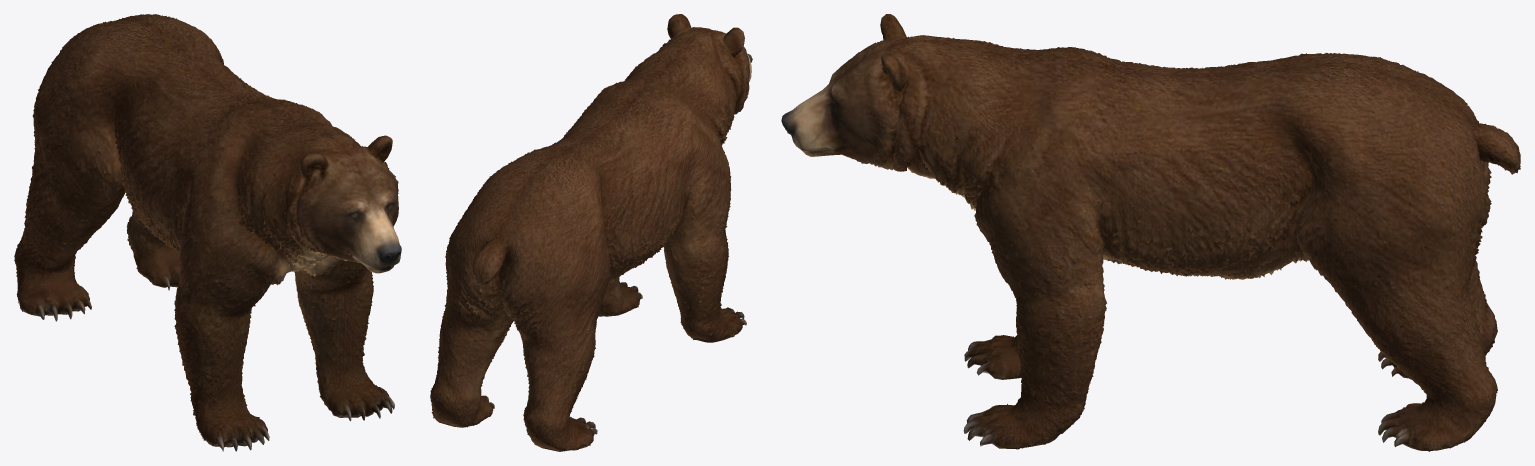
3 renders of one model, left to right at view 1: azimuth 30°, elevation 25°; view 2: azimuth 150°, elevation 25°; view 3: azimuth 270°, elevation 25°, orthographic. The views are drawn at different scales.
Parts seen in each view (by area): view 1: Authored orientation; view 2: Authored orientation; view 3: Authored orientation.
Part boxes in pixels (x1,y1,x2,y2): Authored orientation: (14,14,401,451); Authored orientation: (430,14,752,451); Authored orientation: (781,14,1520,451).
Size of the model in its own units: 1.05 by 1.69 by 3.1.
Materials: 1 (1 with a texture image).
